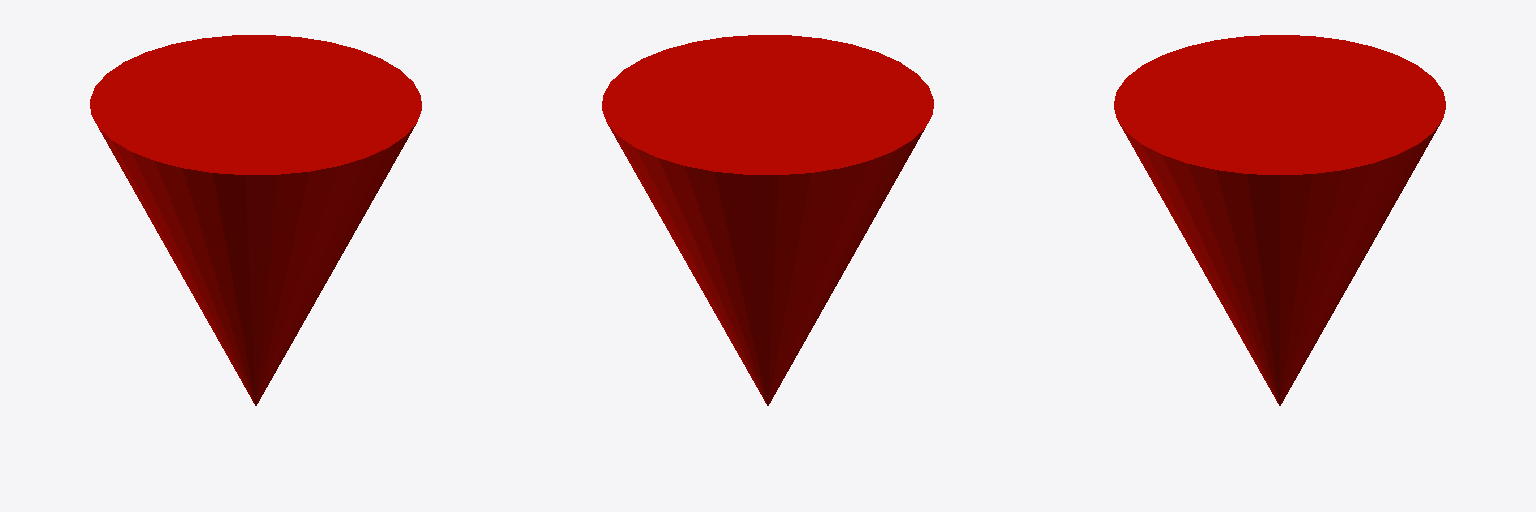
The model's file is phoenix_3Dmodel__redEstop.obj.
3 renders of one model, left to right at view 1: azimuth 30°, elevation 25°; view 2: azimuth 150°, elevation 25°; view 3: azimuth 270°, elevation 25°, orthographic.
Parts seen in each view (by area): view 1: Cone; view 2: Cone; view 3: Cone.
Part boxes in pixels (left/top/right/bottom): Cone: left=90, top=35, right=421, bottom=405; Cone: left=602, top=35, right=933, bottom=405; Cone: left=1114, top=35, right=1445, bottom=405.
Bounding box in the file's own units: 0.0508 × 0.0508 × 0.0508.